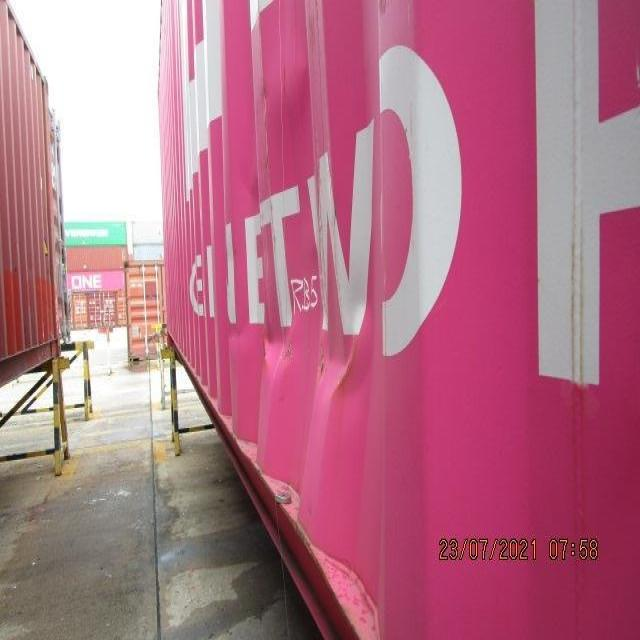dent: (222, 192, 394, 462)
